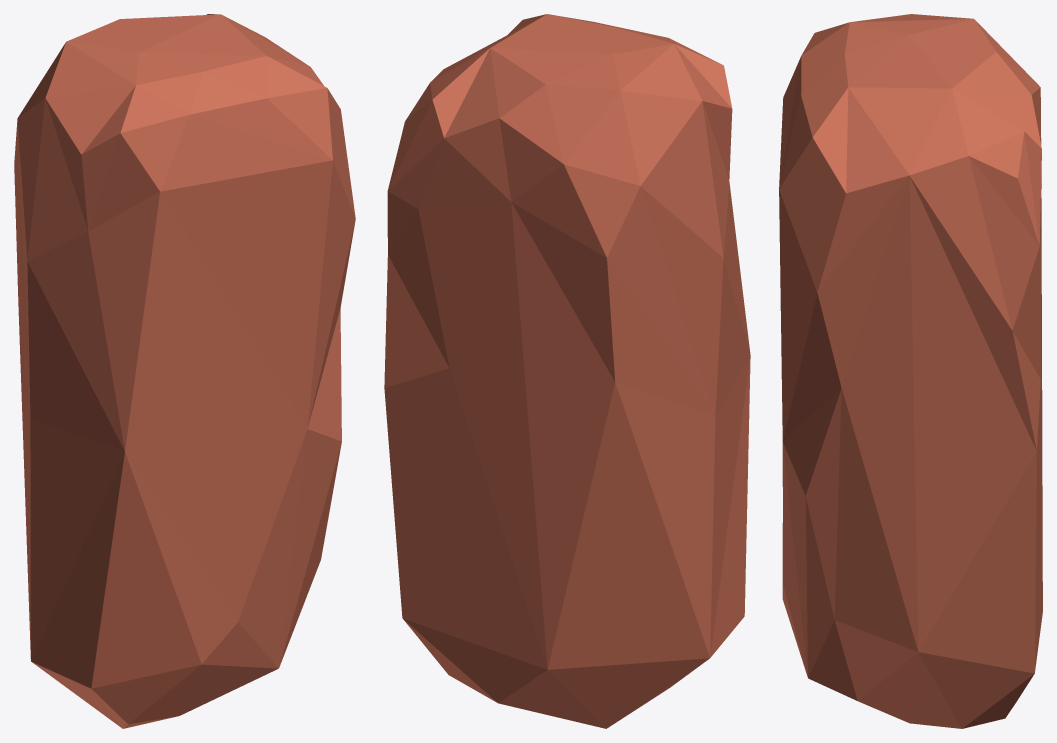
File: boulder_010.fbx
The picture shows the model from 3 angles, left to right: view 1: azimuth 30°, elevation 25°; view 2: azimuth 150°, elevation 25°; view 3: azimuth 270°, elevation 25°; orthographic projection.
Parts seen in each view (by area): view 1: boulder_010; view 2: boulder_010; view 3: boulder_010.
Boxes of the visible parts, x1,y1,x2,y2 form: boulder_010: [14, 14, 355, 728]; boulder_010: [384, 14, 750, 728]; boulder_010: [779, 14, 1042, 728].
Bounding box in the file's own units: 659 × 521 × 1435.
